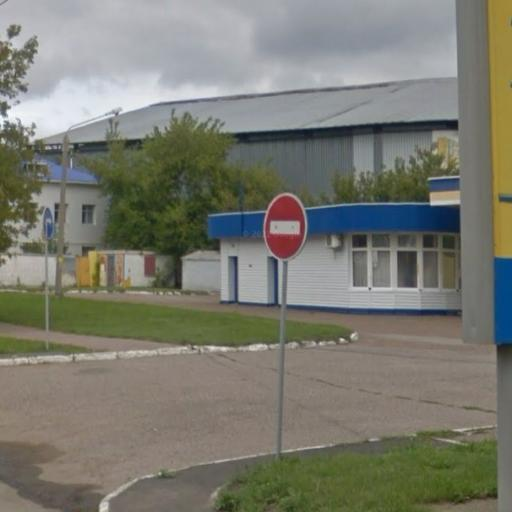traffic_sign: (261, 189, 311, 268)
